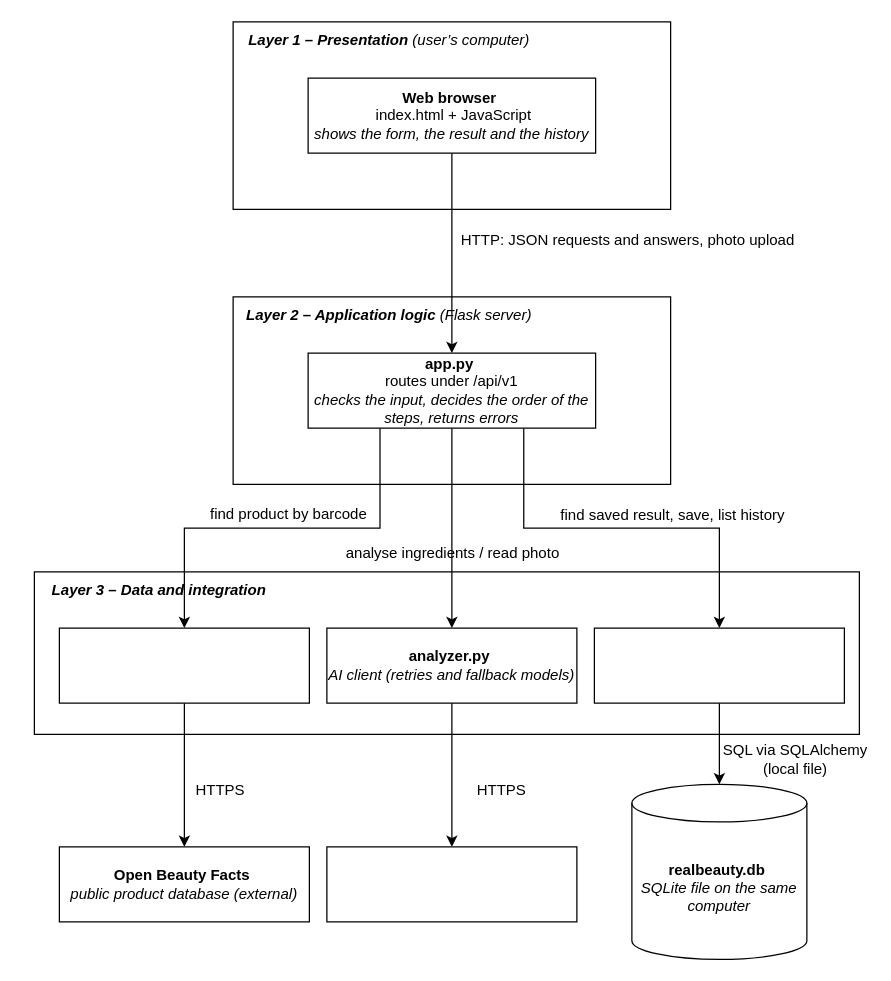
The diagram is 891 pixels wide and 981 high, and some of its shapes have lost their labels. Here are the shapes that lost their labels. From the top down, the box of each, then its label:
(58, 627, 309, 703): beauty_api.py product catalogue client
(593, 627, 844, 703): database.py saves, finds and lists analyses
(326, 846, 577, 922): OpenRouter gateway to free AI models (external)
